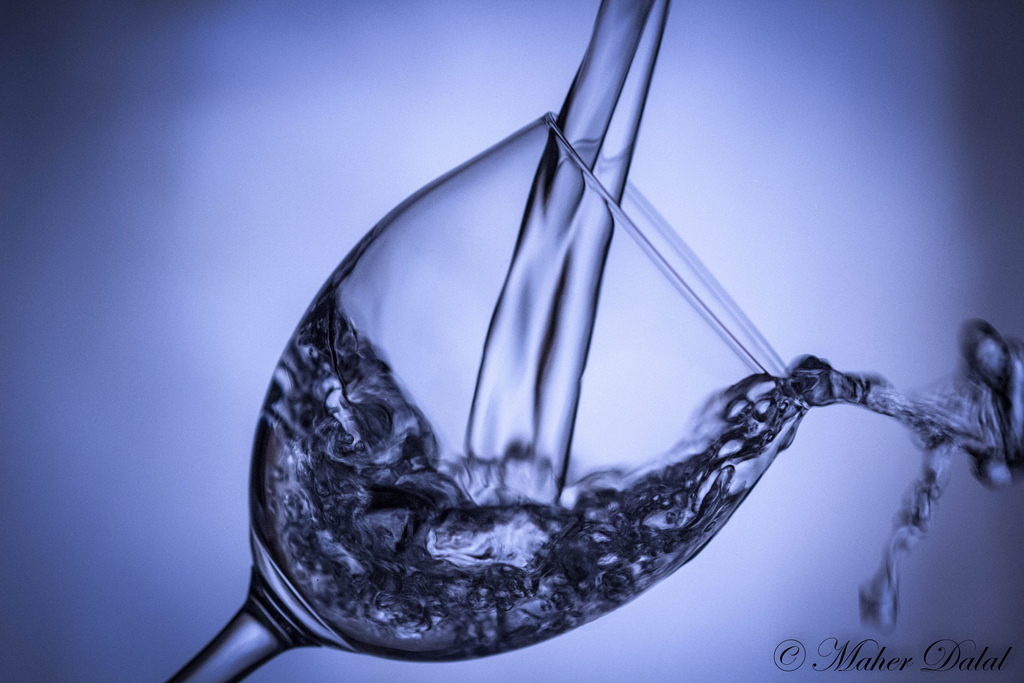glass of water: (203, 101, 796, 683)
